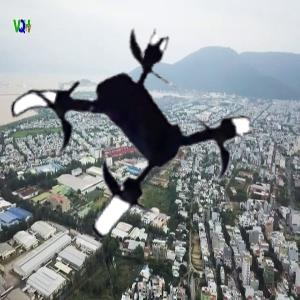drone: (4, 17, 250, 263)
